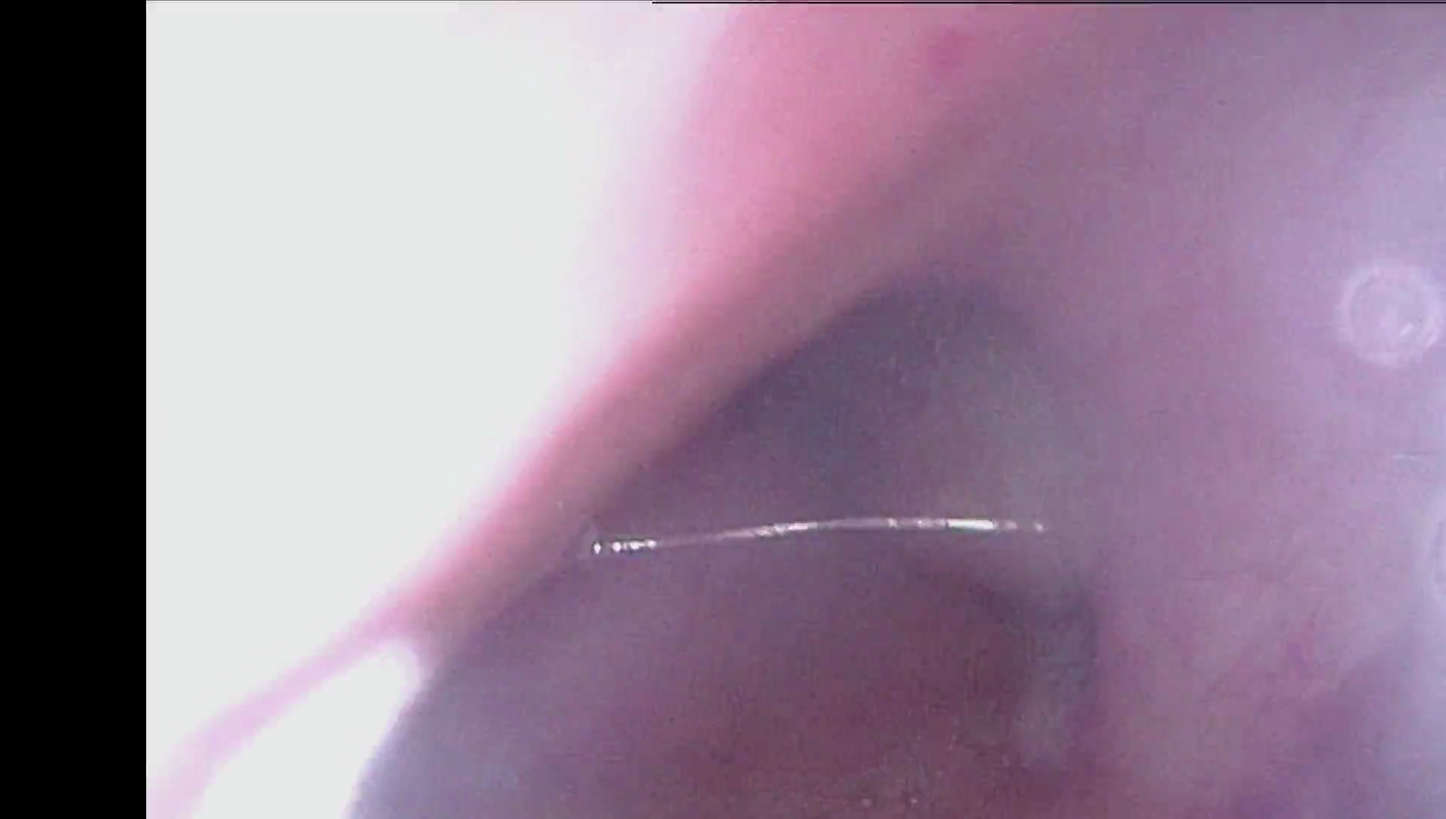close_wall: (152, 0, 712, 726)
next: (682, 290, 979, 558)
